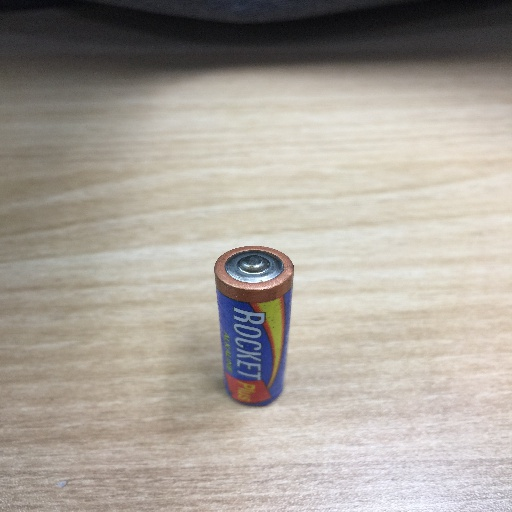Battery_0: (206, 233, 308, 421)
